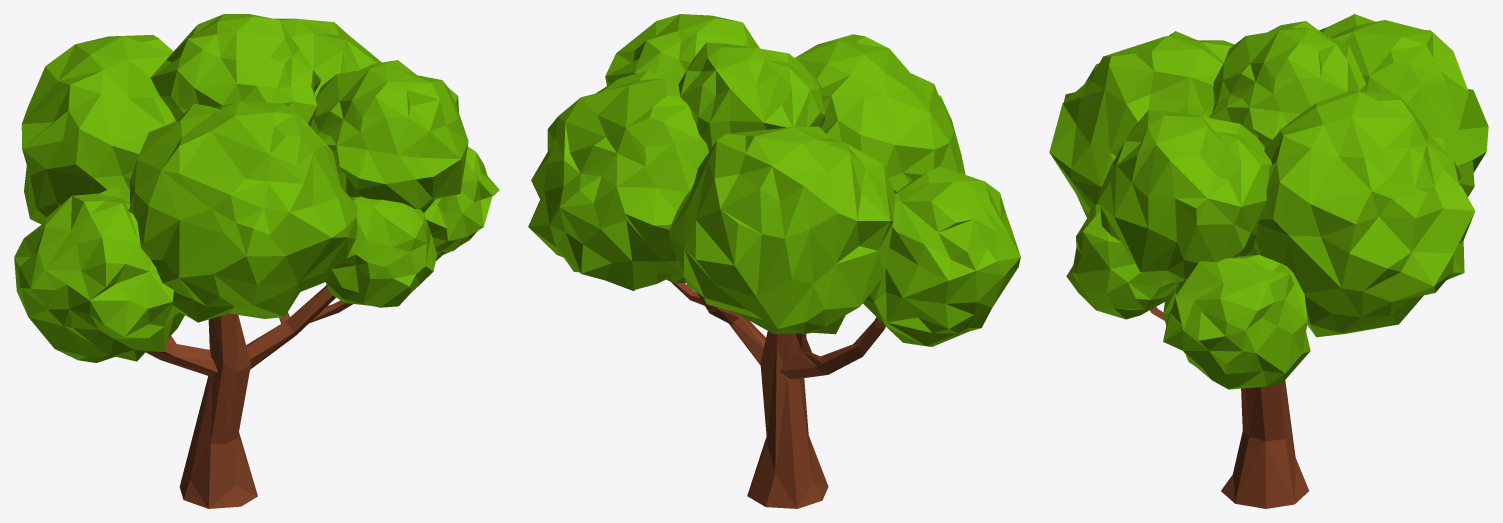
File: Tree3_Oak_LOD.fbx
3 views of the same model, side by side, from view 1: azimuth 30°, elevation 25°; view 2: azimuth 150°, elevation 25°; view 3: azimuth 270°, elevation 25° (orthographic). The views are drawn at different scales.
Visible parts, largest first — view 1: Tree3_Oak_LOD0; view 2: Tree3_Oak_LOD0; view 3: Tree3_Oak_LOD0.
Part boxes in pixels (bbox=[...]): Tree3_Oak_LOD0: bbox=[14, 14, 499, 508]; Tree3_Oak_LOD0: bbox=[528, 14, 1020, 508]; Tree3_Oak_LOD0: bbox=[1049, 14, 1488, 508].
Size of what is drawn, in the model's own units: 820 by 761 by 639.
